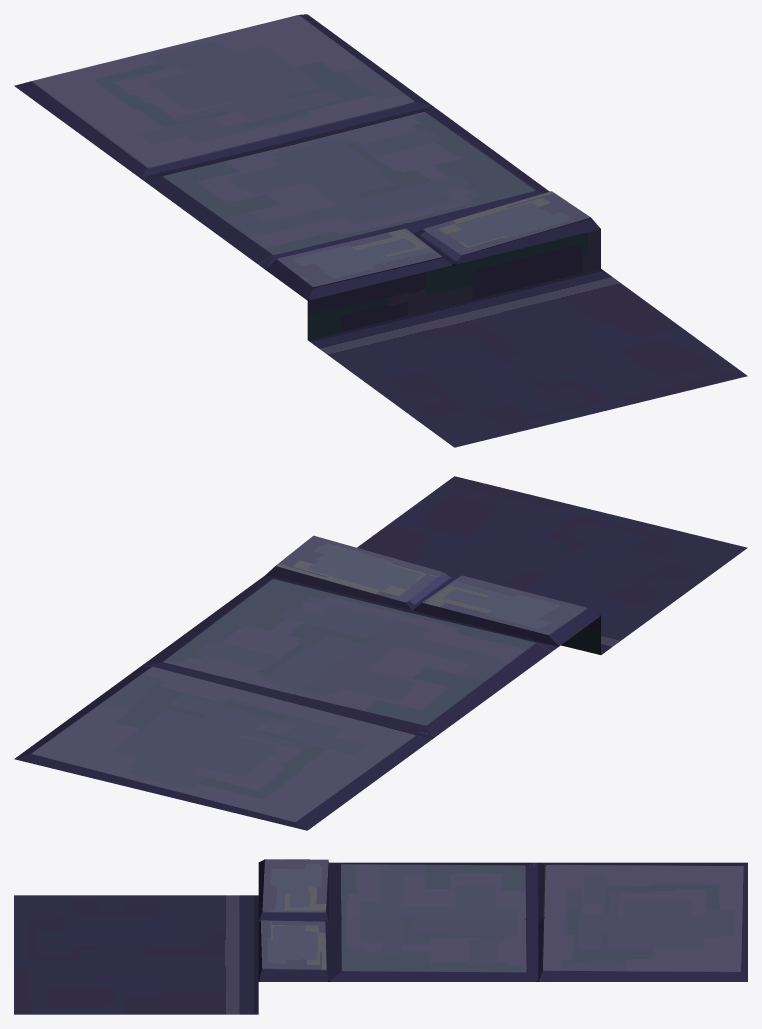
Rendered from Route_Basic1.fbx.
The picture shows the model from 3 angles, top to bottom: view 1: azimuth 30°, elevation 25°; view 2: azimuth 150°, elevation 25°; view 3: azimuth 270°, elevation 25°; orthographic projection. The views are drawn at different scales.
Visible parts, largest first — view 1: Plane.002; view 2: Plane.002; view 3: Plane.002.
Boxes of the visible parts, x1=… form: Plane.002: x1=14, y1=14, x2=747, y2=447; Plane.002: x1=14, y1=476, x2=747, y2=830; Plane.002: x1=14, y1=859, x2=747, y2=1014.
Bounding box in the file's own units: 218 × 36.55 × 566.
Materials: 1 (1 with a texture image).
